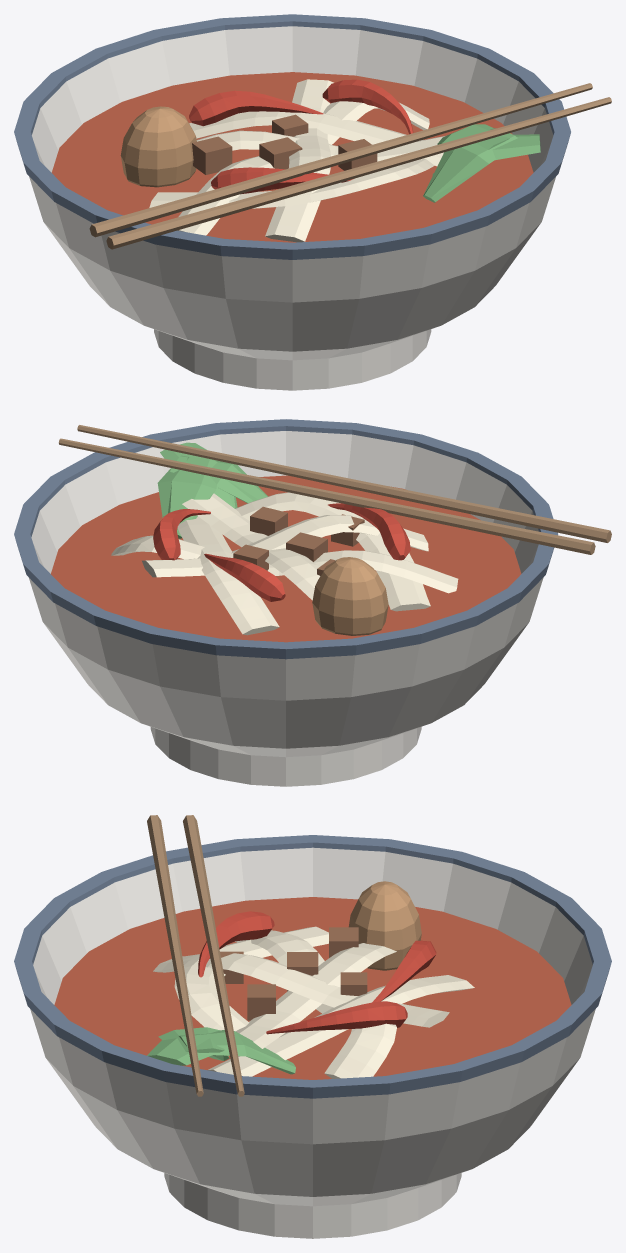
Rendered from ramen.glb.
3 renders of one model, top to bottom at view 1: azimuth 30°, elevation 25°; view 2: azimuth 150°, elevation 25°; view 3: azimuth 270°, elevation 25°, orthographic. The views are drawn at different scales.
Visible parts, largest first — view 1: anhui-banmian; view 2: anhui-banmian; view 3: anhui-banmian.
Part boxes in pixels (x1=…): anhui-banmian: x1=14, y1=14, x2=611, y2=390; anhui-banmian: x1=14, y1=419, x2=611, y2=786; anhui-banmian: x1=14, y1=815, x2=611, y2=1238.
Size of the model in its own units: 1.1 by 0.449 by 1.02.
